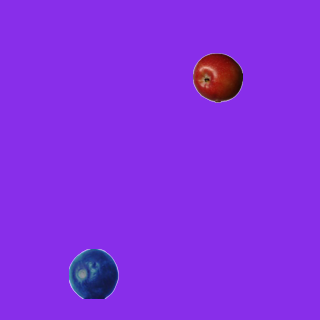Apple Braeburn: (192, 52, 242, 102)
Huckleberry: (68, 248, 118, 298)
